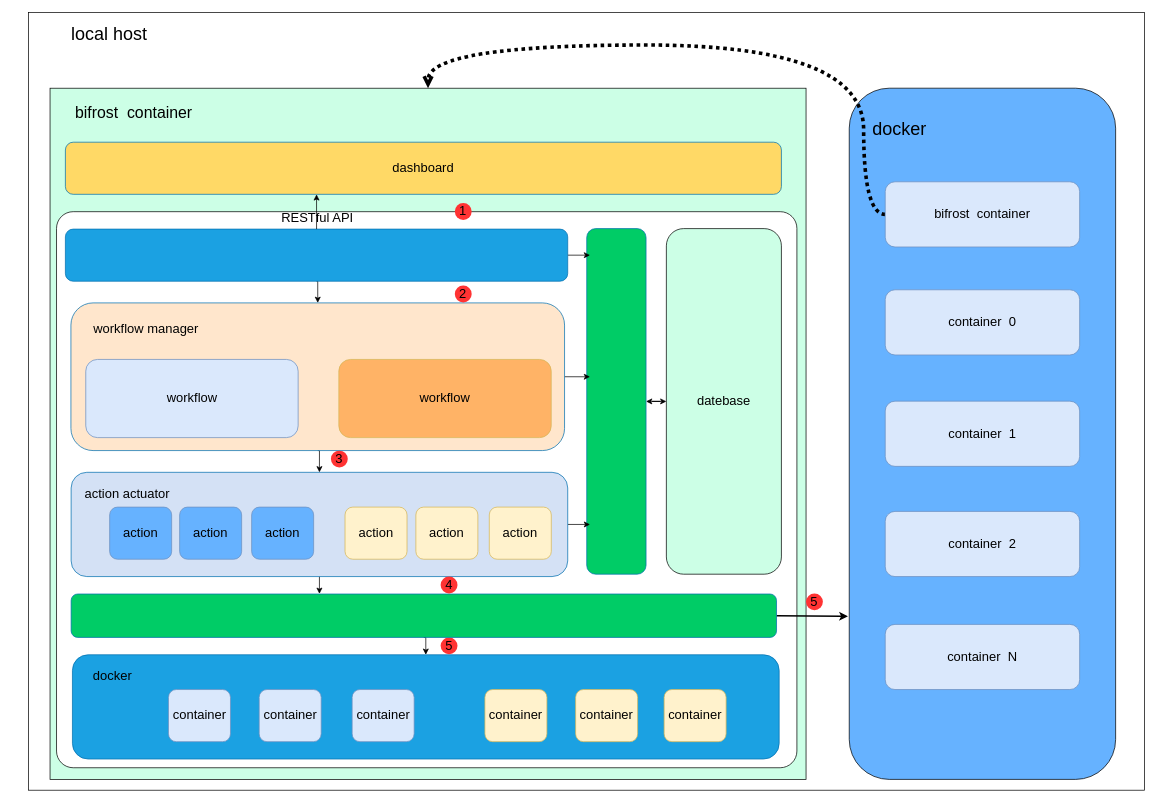
Image size: 1157x803. Some labels were removed from this diagram. Each missing label, with the centre of its shape:
bifrost apiserver: the point at 316,254
container manager: the point at 423,615
database connector: the point at 616,401
